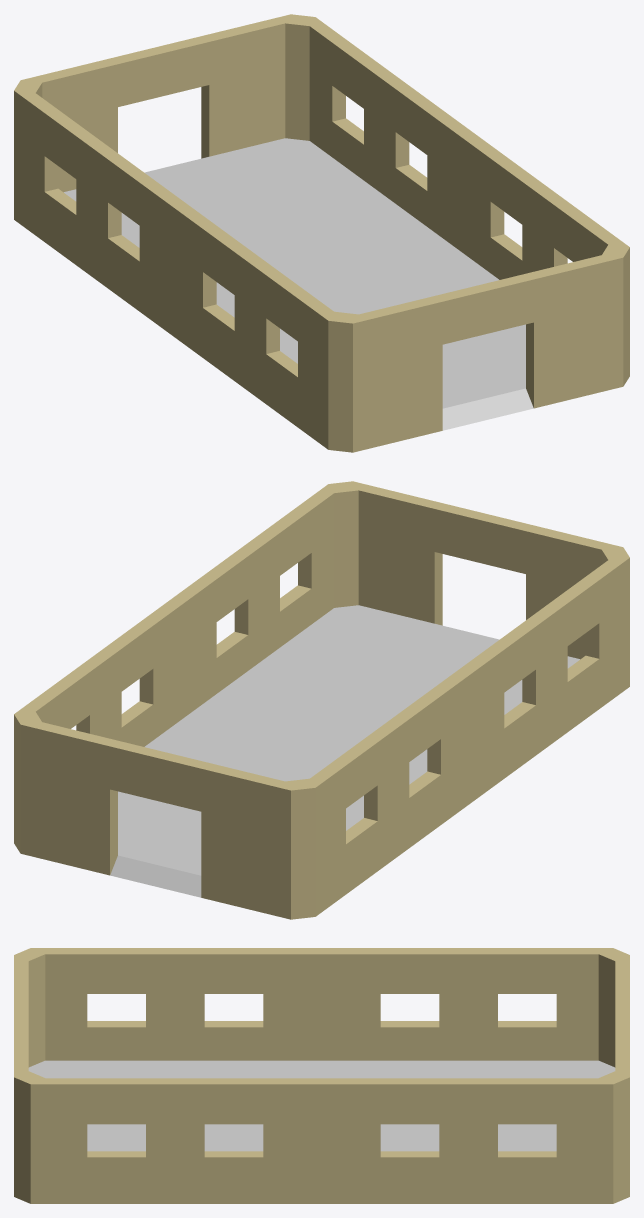
File: 10x20house.fbx
3 views of the same model, one above another, from view 1: azimuth 30°, elevation 25°; view 2: azimuth 150°, elevation 25°; view 3: azimuth 270°, elevation 25° (orthographic). The views are drawn at different scales.
Parts seen in each view (by area): view 1: 10x20house; view 2: 10x20house; view 3: 10x20house.
Part boxes in pixels (bbox=[...]): 10x20house: bbox=[14, 14, 629, 452]; 10x20house: bbox=[14, 481, 629, 919]; 10x20house: bbox=[14, 948, 629, 1203].
Bounding box in the file's own units: 1100 × 450 × 2100.
